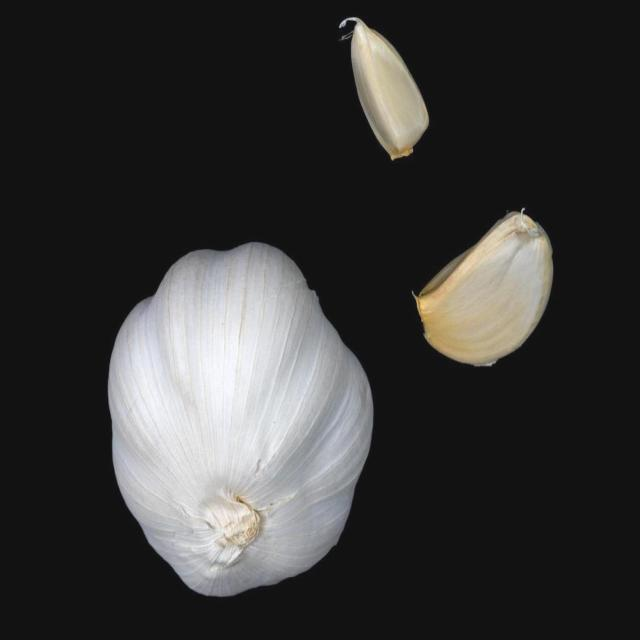garlic: (102, 242, 376, 607), (408, 208, 555, 370), (333, 17, 430, 167)
